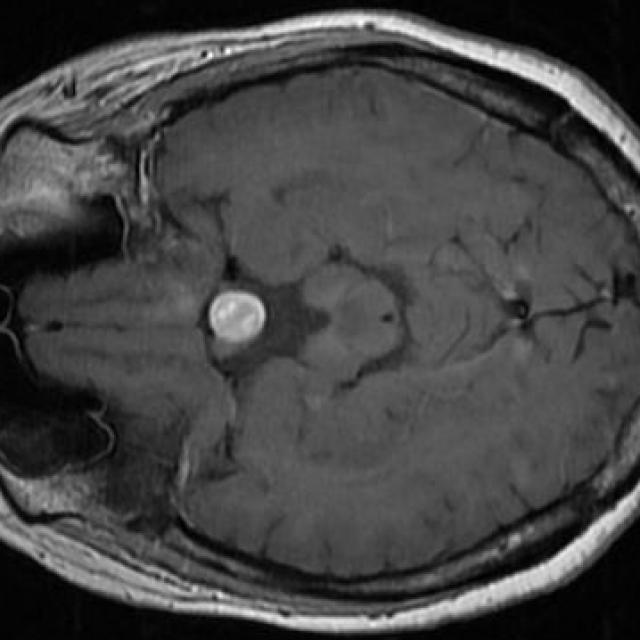pituitary: (209, 291, 266, 344)
